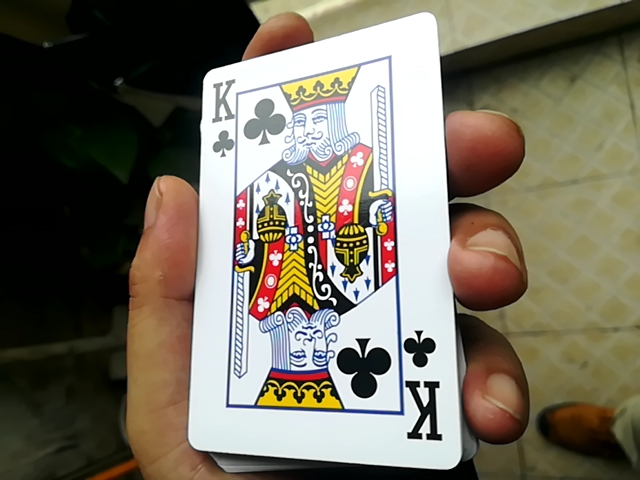mh k: (184, 5, 459, 458)
